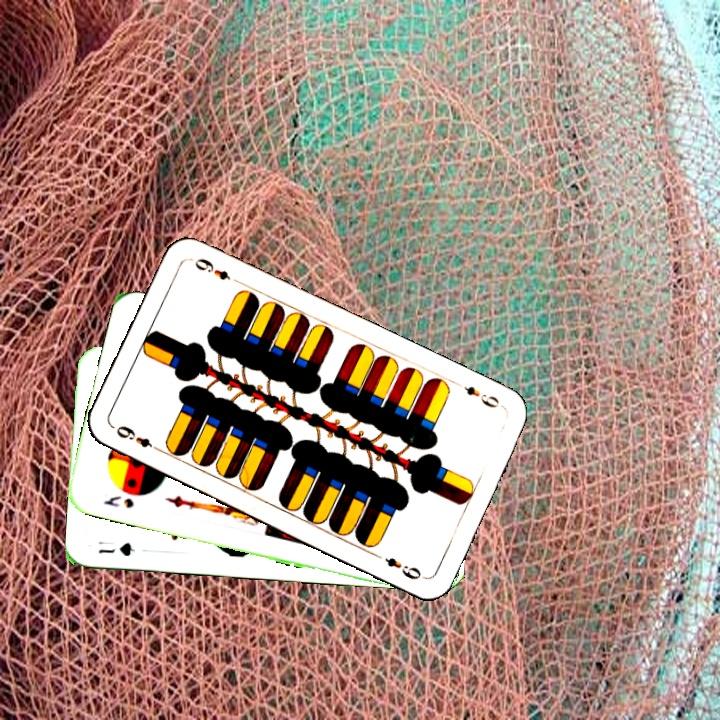E9: (452, 378, 507, 411), (112, 421, 165, 455)
GU: (94, 537, 138, 559)
SK: (99, 492, 137, 511)
